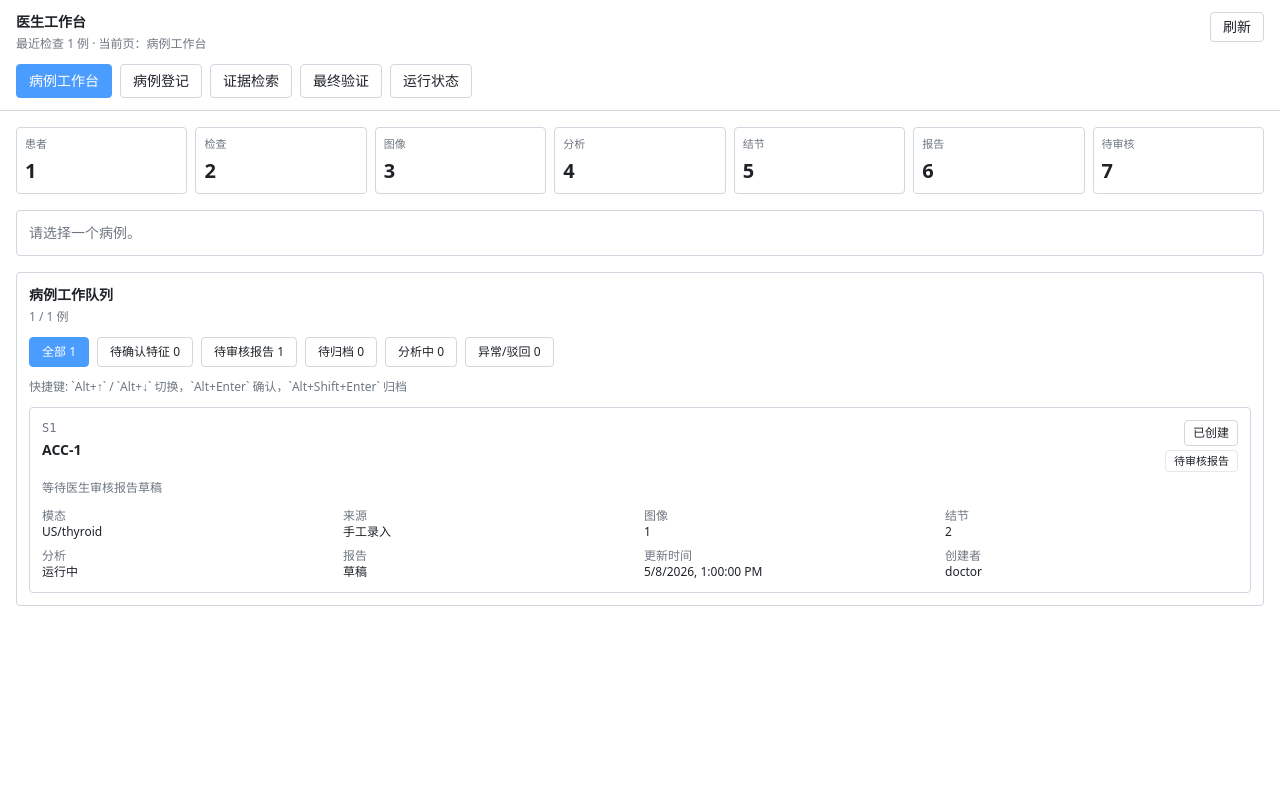
Scenario: MedicalPanel › does not mark refreshed evidence when the audit bbox does not match the model basis
Check: the heading "ACC-1" is shown, box [42, 440, 82, 460]
Click the button "ACC-1" at point(640, 500), box [29, 406, 1251, 593]
(page scrolled)
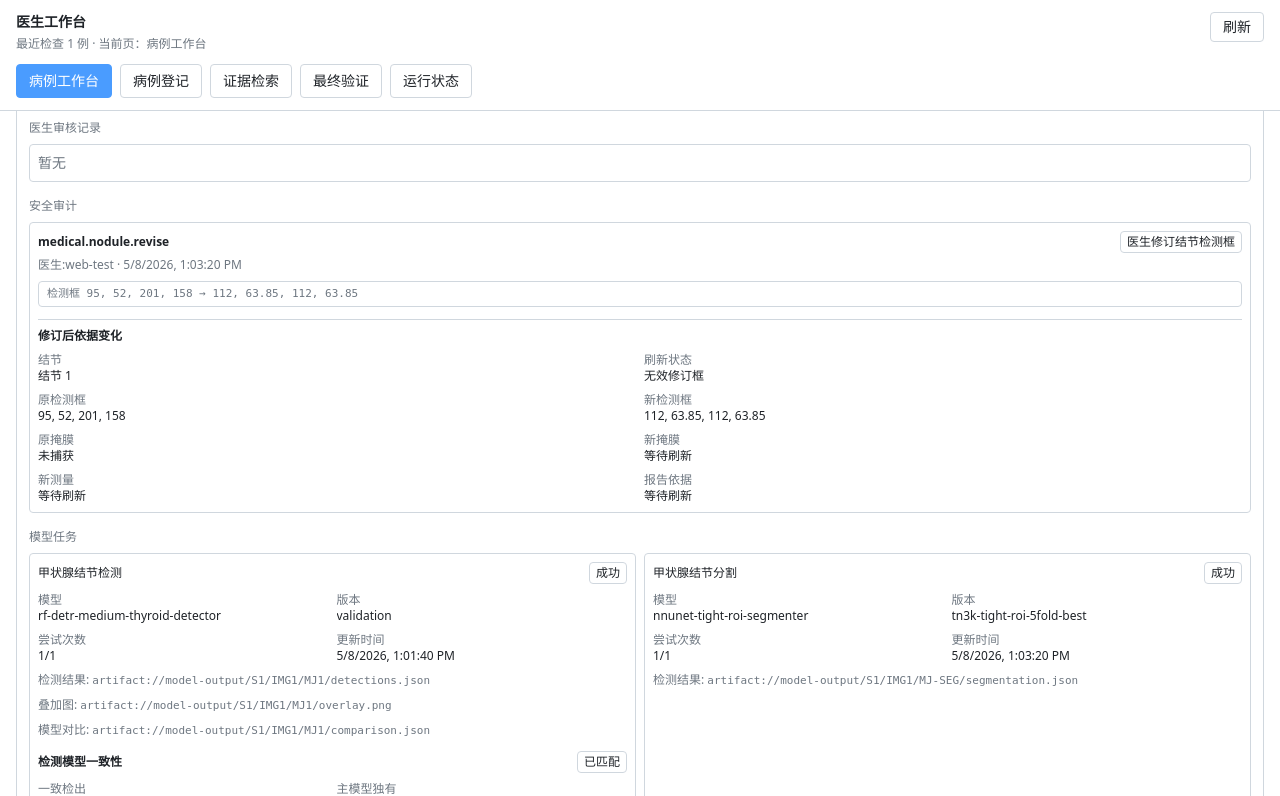
Check: the text "修订后依据变化" is shown, box [38, 326, 122, 344]
Check: the text "无效修订框" is shown, box [644, 366, 704, 384]
Check: the text "等待刷新" below "新掩膜" is shown, box [644, 446, 692, 464]
